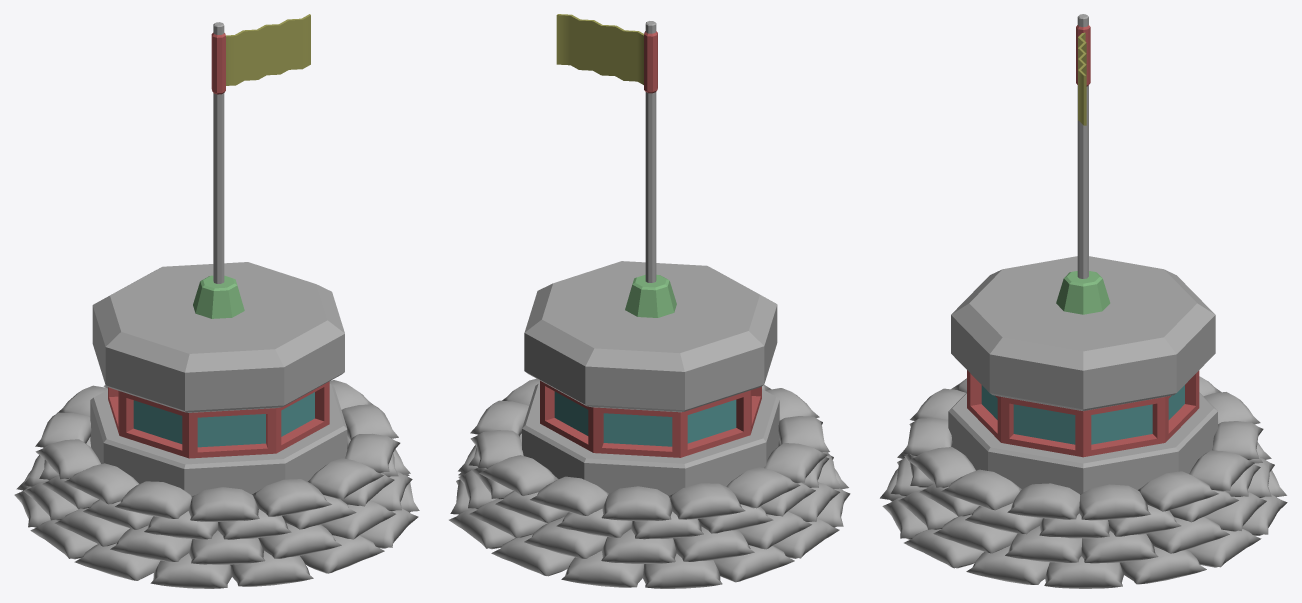
The picture shows the model from 3 angles, left to right: view 1: azimuth 30°, elevation 25°; view 2: azimuth 150°, elevation 25°; view 3: azimuth 270°, elevation 25°; orthographic projection.
Visible parts, largest first — view 1: base_0_3, base_0_2, base_0_1; view 2: base_0_3, base_0_2, base_0_1; view 3: base_0_3, base_0_2, base_0_1.
Boxes of the visible parts, x1,y1,x2,y2 form: base_0_3: [90, 262, 347, 495]; base_0_2: [14, 380, 419, 588]; base_0_1: [193, 14, 310, 318]; base_0_3: [522, 261, 779, 517]; base_0_2: [449, 378, 850, 588]; base_0_1: [556, 14, 676, 317]; base_0_3: [948, 256, 1217, 494]; base_0_2: [880, 376, 1287, 588]; base_0_1: [1056, 14, 1110, 314].
Size of the model in its own units: 474 by 647 by 484.
